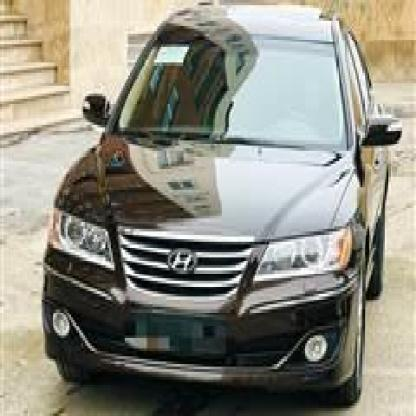Car: (33, 0, 385, 413)
